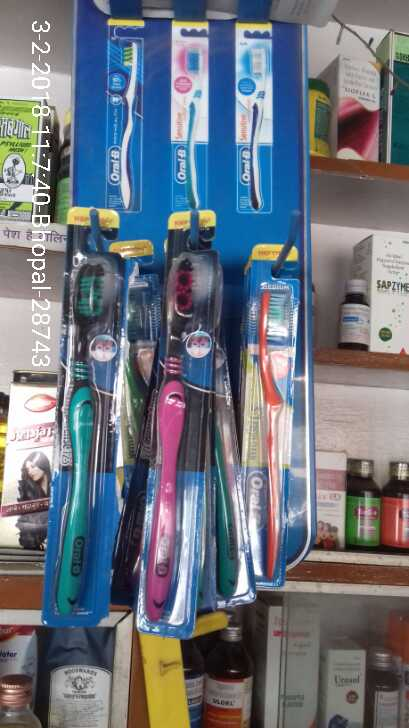oralb: (142, 252, 207, 627), (56, 248, 115, 623), (118, 273, 159, 621), (254, 276, 294, 581), (169, 19, 213, 211), (104, 20, 143, 213), (234, 24, 271, 215)
